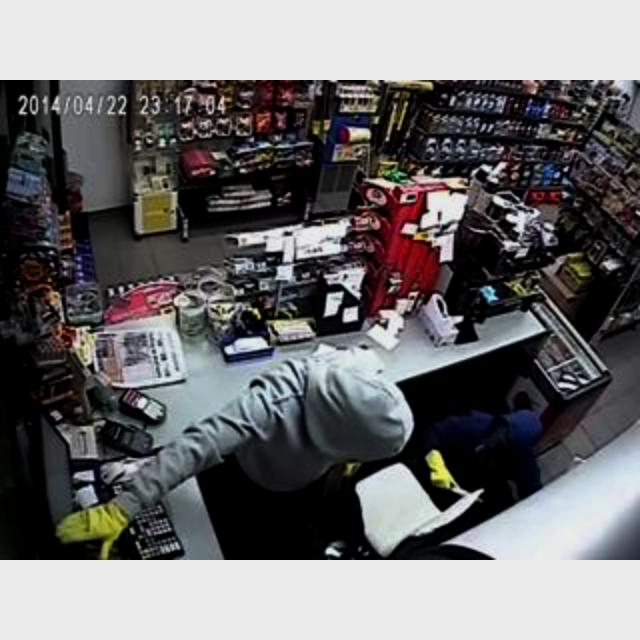criminal: (52, 346, 414, 560), (418, 409, 544, 509)
weapon: (445, 480, 483, 502)
